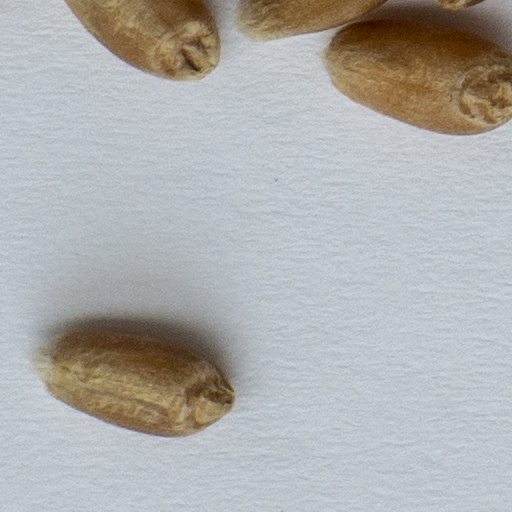Wheat-grain-poly: (34, 328, 233, 435)
